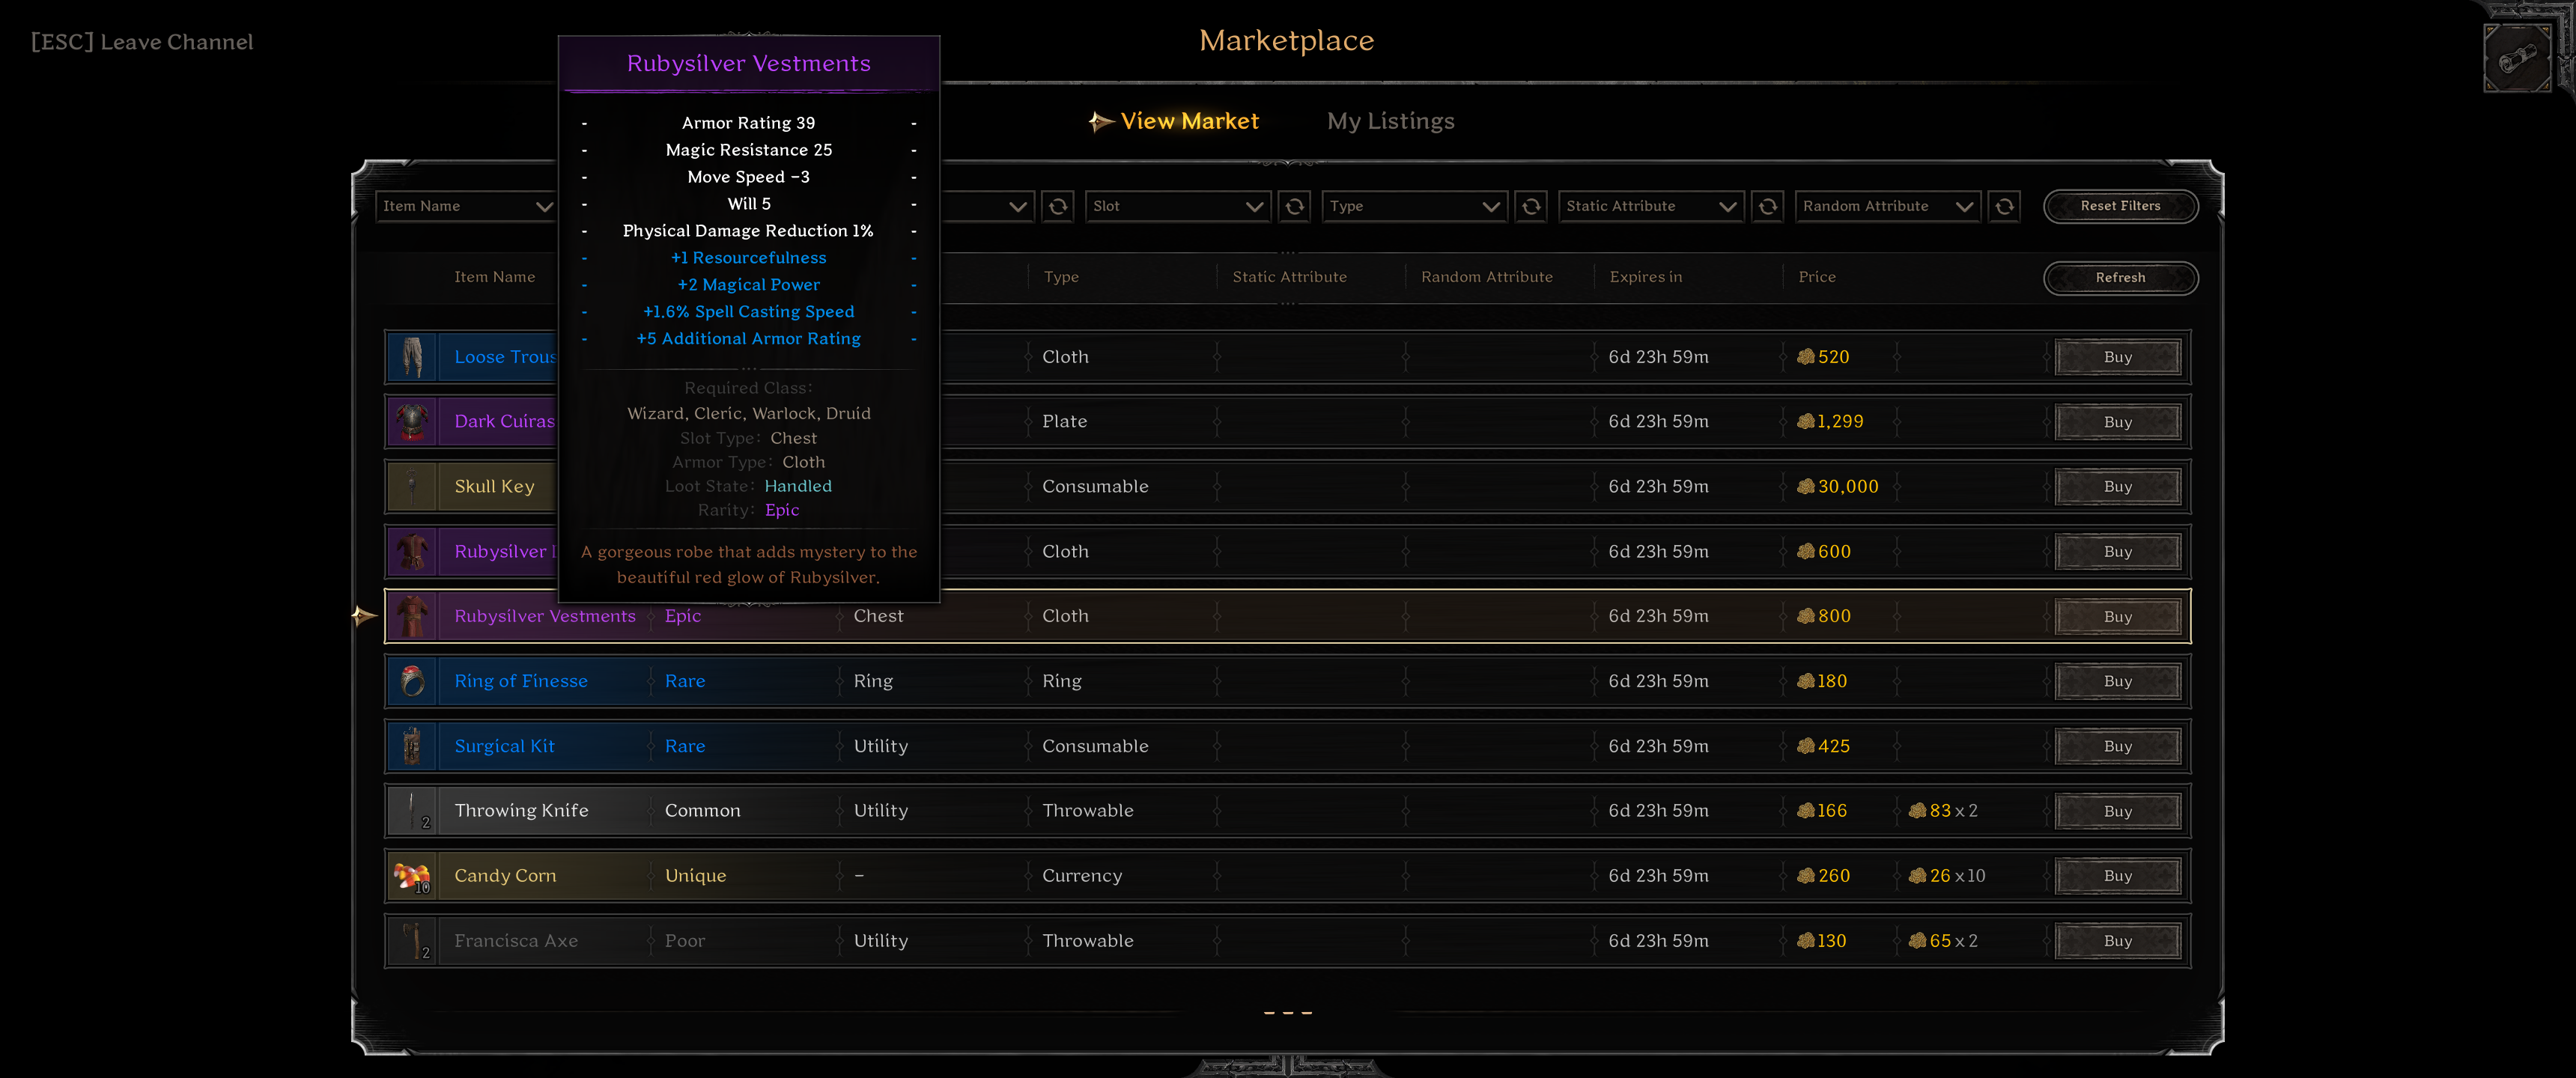Tooltip: (557, 33, 941, 605)
